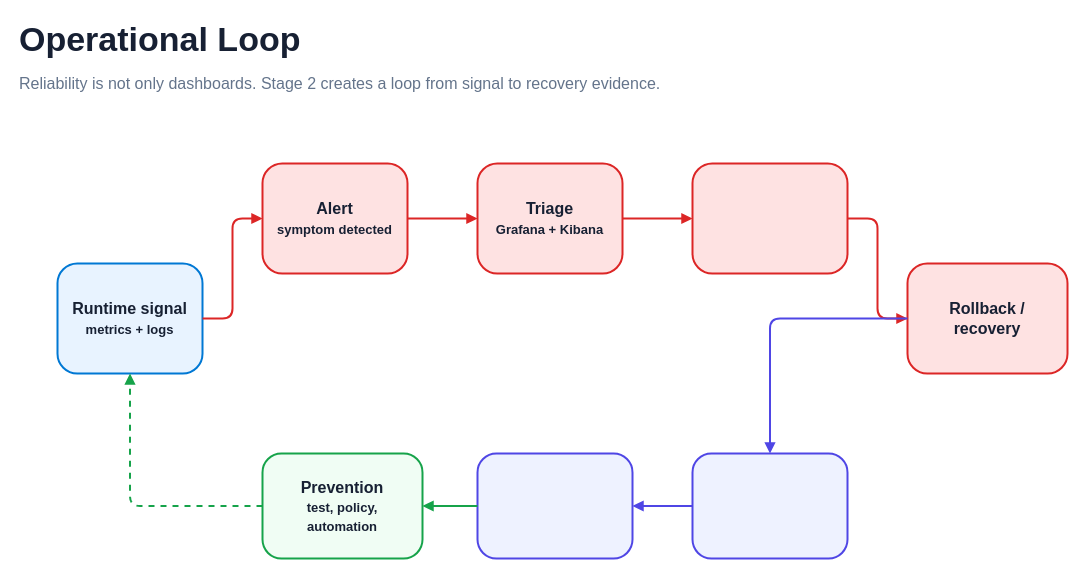
Image size: 1085x576. Some labels were removed from this diagram. Here are the shapes that lost their labels. From the top down, the centre of each, then its label:
point (769, 218): Runbook diagnose + mitigate
point (554, 505): Postmortem corrective action
point (769, 505): MTTR measured
